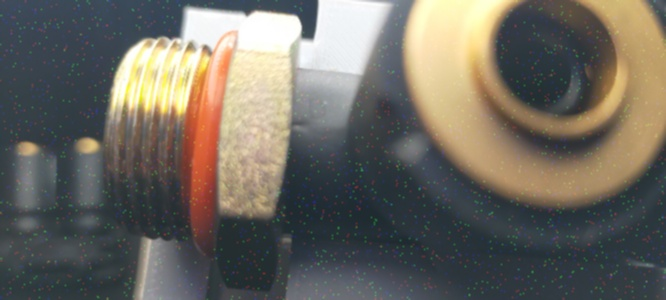bump: (371, 83, 438, 173)
white mark: (286, 117, 307, 135)
